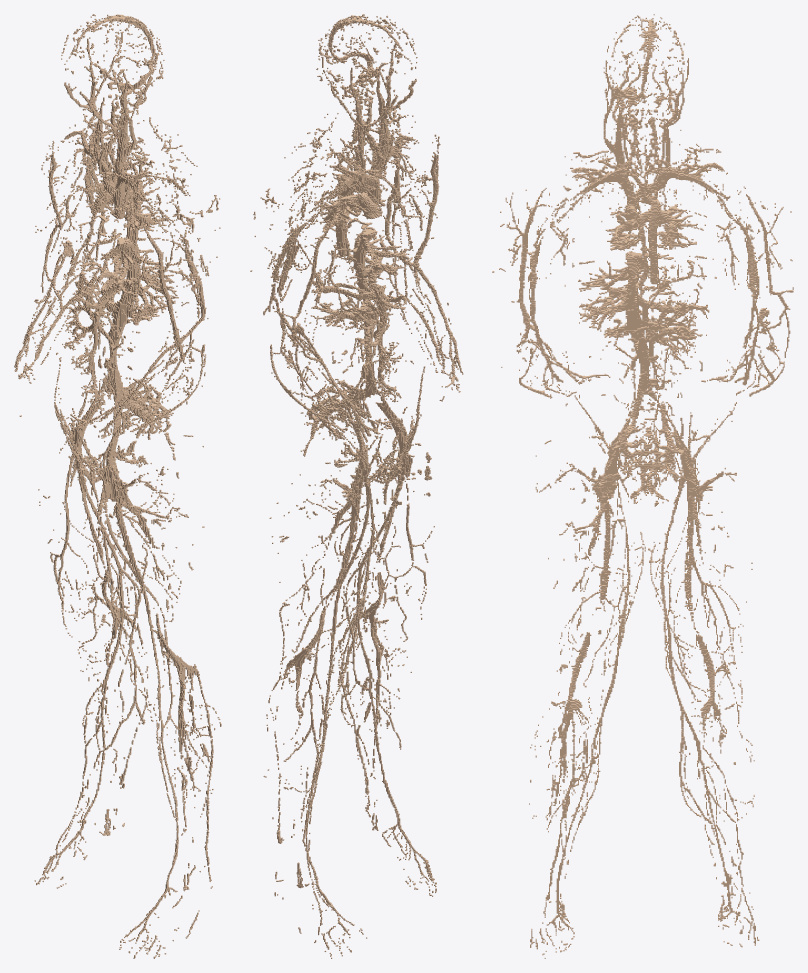
Rendered from blood_vessel.fbx.
The picture shows the model from 3 angles, left to right: view 1: azimuth 30°, elevation 25°; view 2: azimuth 150°, elevation 25°; view 3: azimuth 270°, elevation 25°; orthographic projection. The views are drawn at different scales.
Parts seen in each view (by area): view 1: AustinMan; view 2: AustinMan; view 3: AustinMan.
Part boxes in pixels (left/top/right/bottom): AustinMan: left=14, top=14, right=221, bottom=958; AustinMan: left=250, top=14, right=463, bottom=958; AustinMan: left=492, top=14, right=793, bottom=958.
Size of the model in its own units: 15100 by 92900 by 27100.
